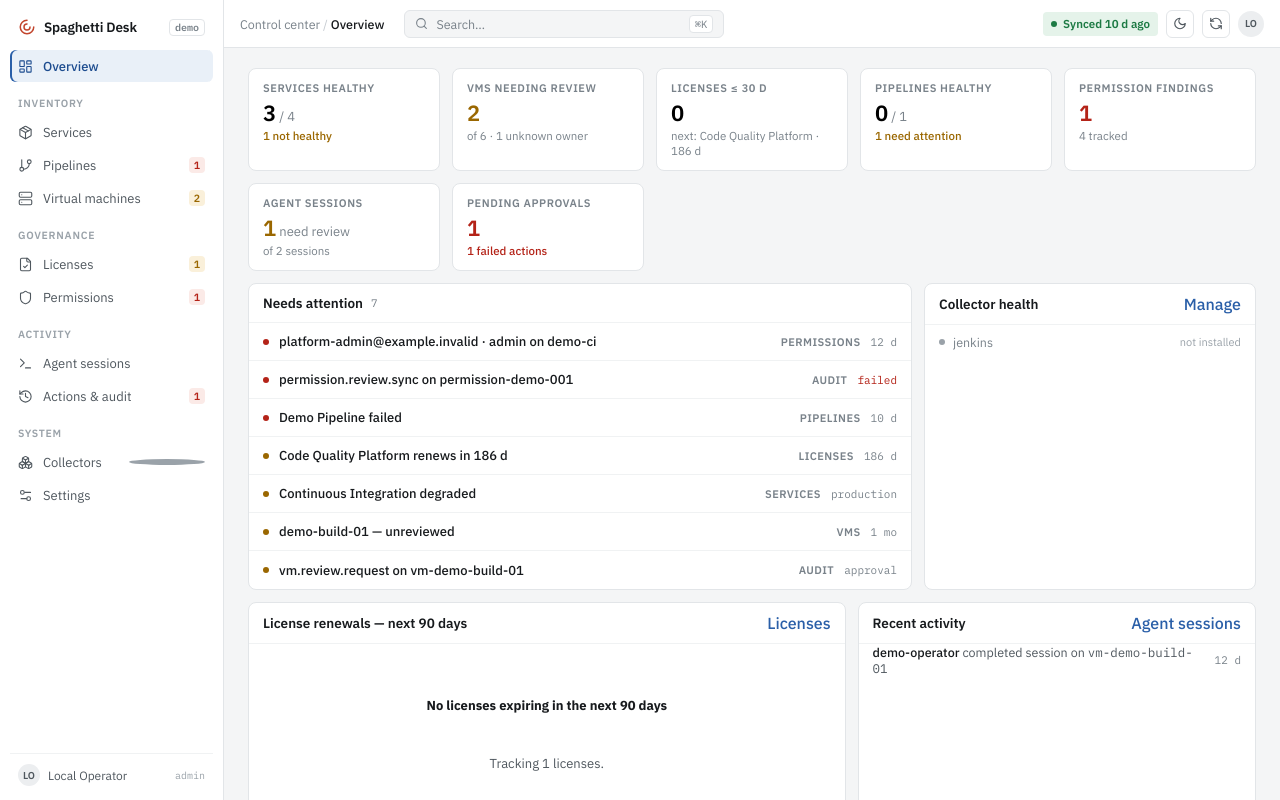
Test: Dashboard › toggles the color theme and persists it
Click the button named "Switch to dark theme" at [1180, 24], box [1166,10,1194,38]
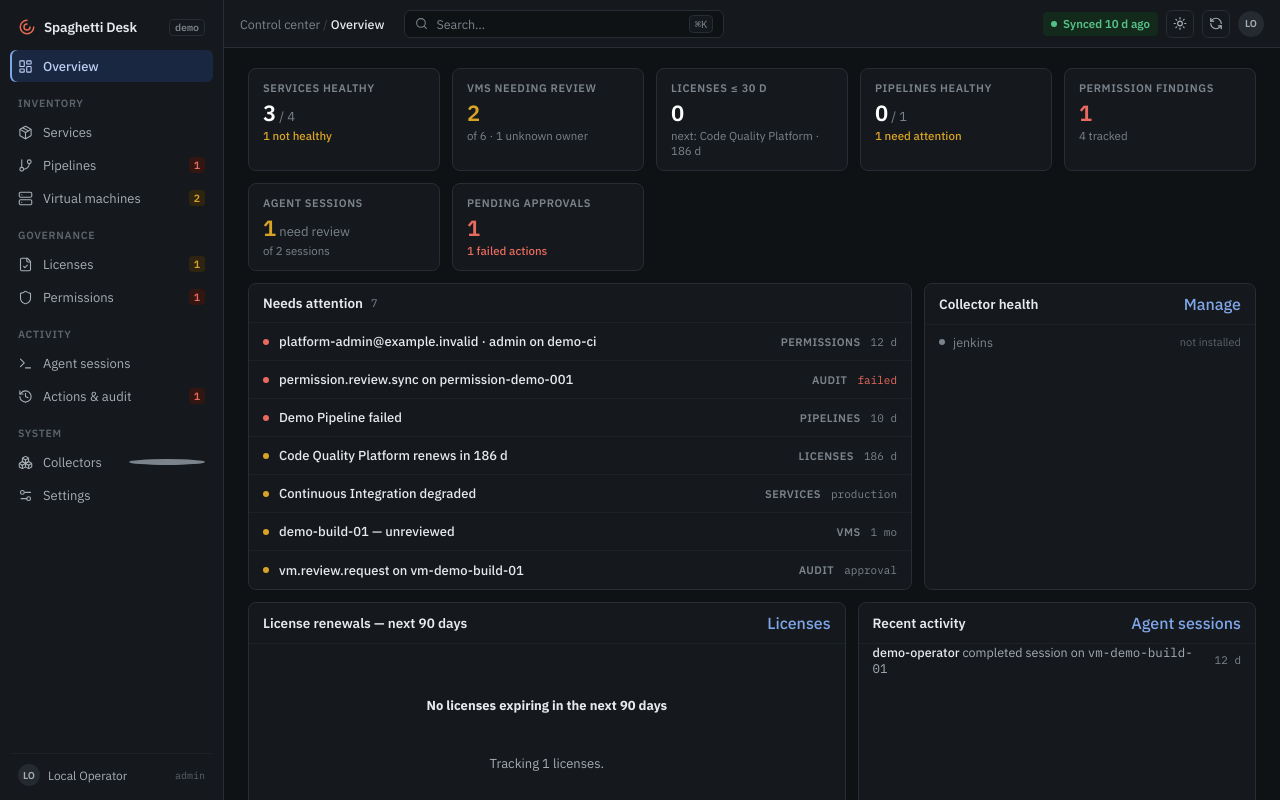
Now the button named "Switch to light theme" is shown, box [1166,10,1194,38]
